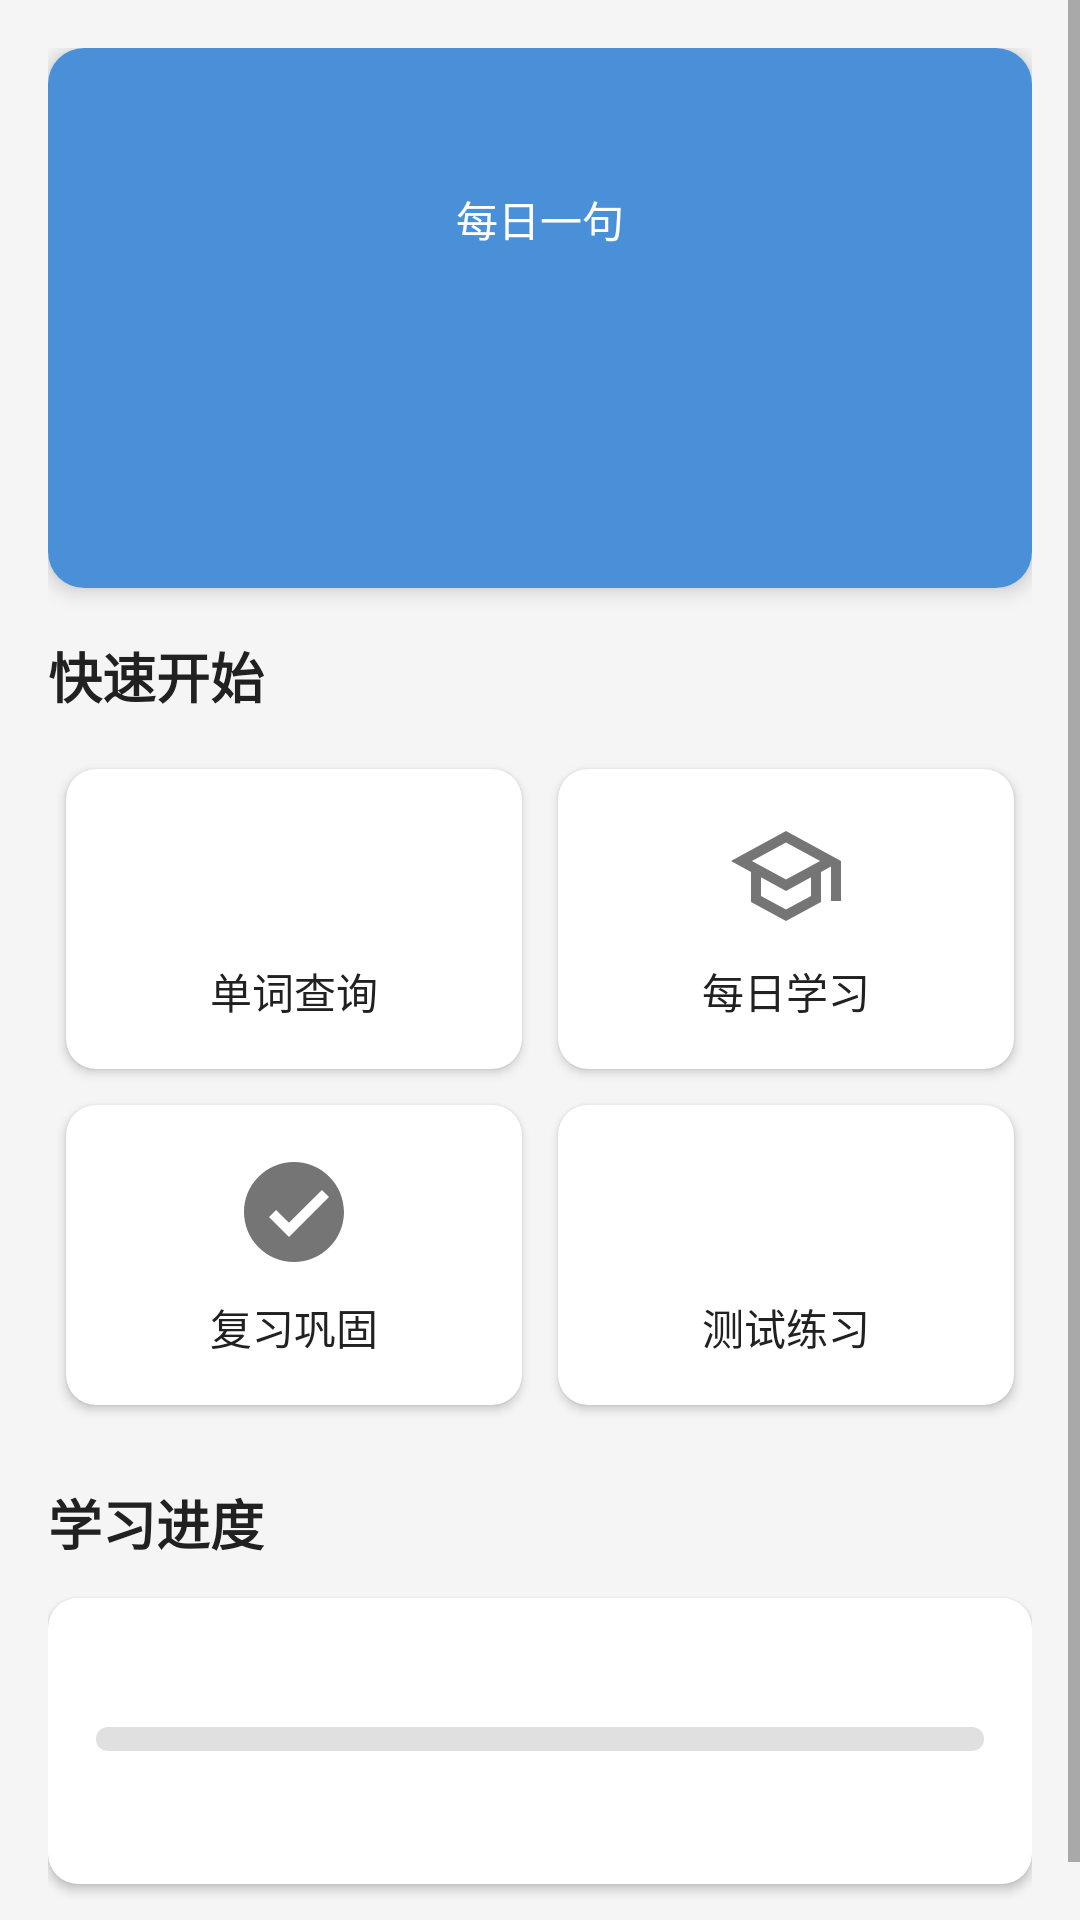

Icons on this 1080x1920 Android screen, each with its box as (x1, y1, x2, y2):
review: (244, 1162, 344, 1262)
